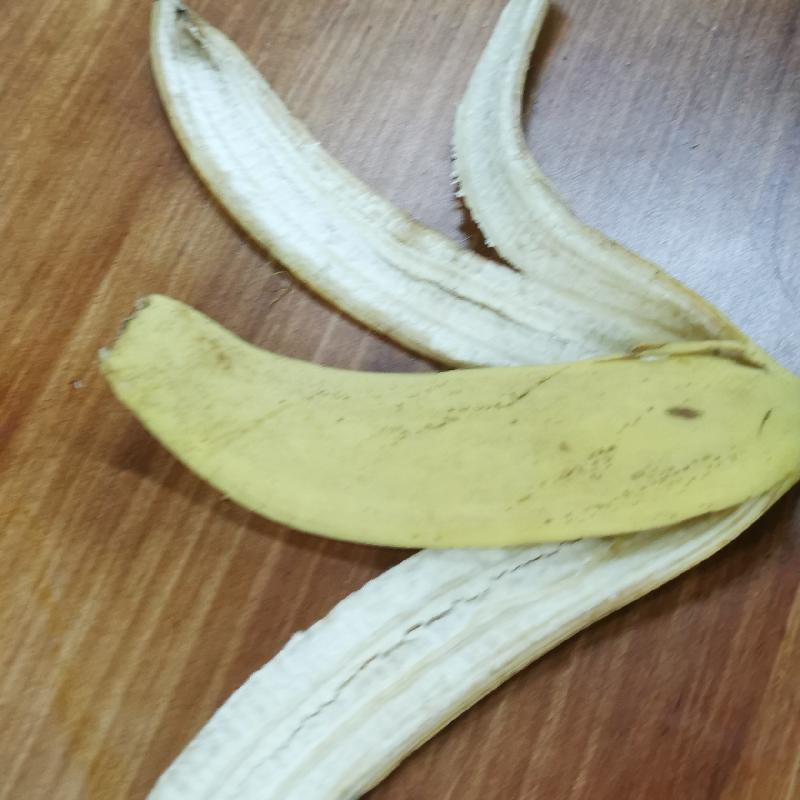bananas: (55, 1, 799, 799)
